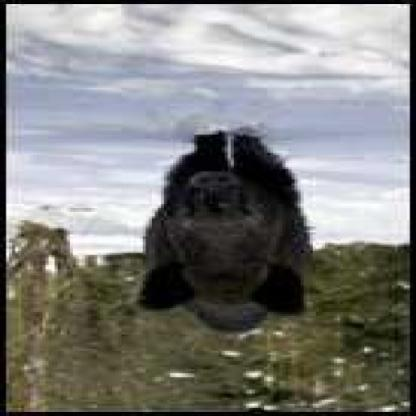boar: (121, 109, 319, 340)
